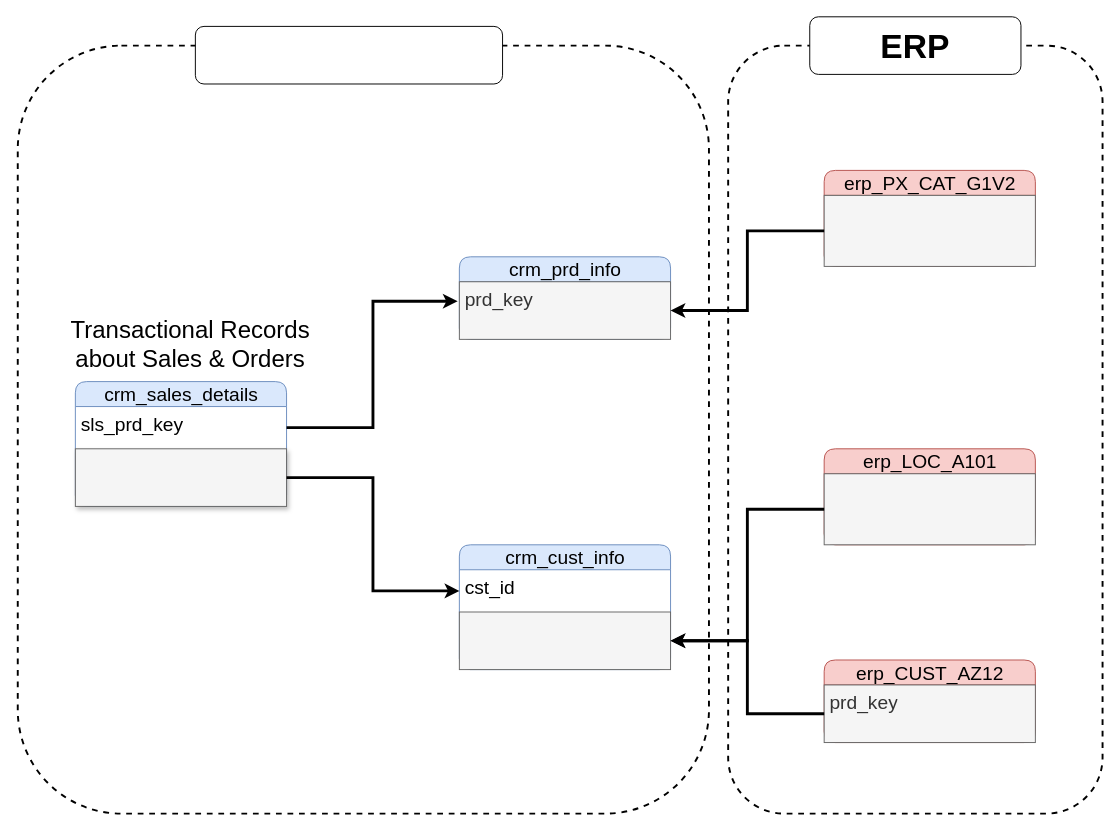
This 1119x831 diagram has some shape labels left out. The centre of each missing label's shape, as x and y in pixels:
"cid" belongs at pixel 929 509.
"CRM" belongs at pixel 348 54.
"cst_key" belongs at pixel 564 640.
"id" belongs at pixel 929 230.
"sls_cust_id" belongs at pixel 181 478.
